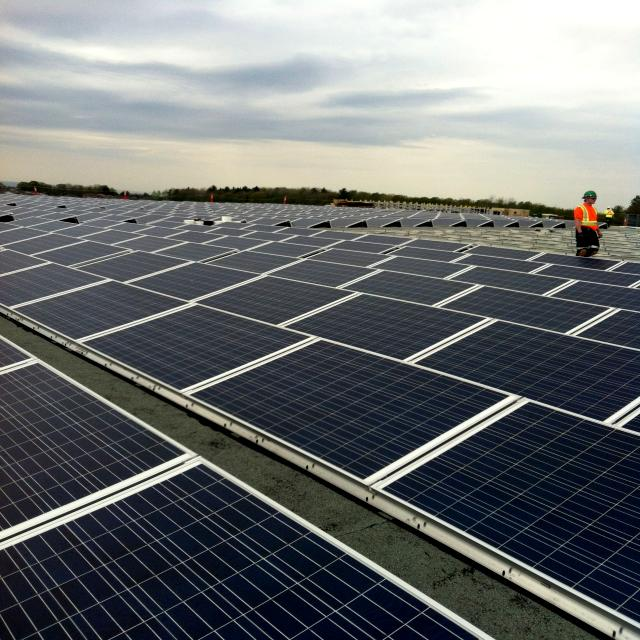crack: (0, 167, 640, 640), (0, 318, 472, 640)
